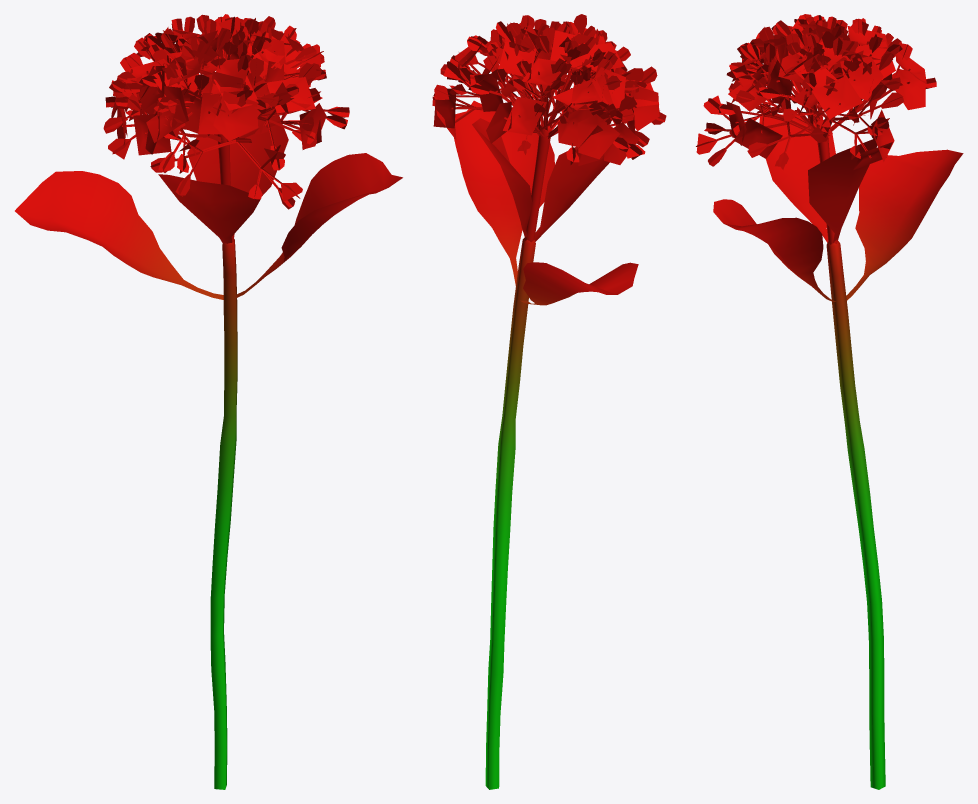
File: Var11_LOD1.fbx
The picture shows the model from 3 angles, left to right: view 1: azimuth 30°, elevation 25°; view 2: azimuth 150°, elevation 25°; view 3: azimuth 270°, elevation 25°; orthographic projection. The views are drawn at different scales.
Parts seen in each view (by area): view 1: _3e89_Var11_LOD1; view 2: _3e89_Var11_LOD1; view 3: _3e89_Var11_LOD1.
Part boxes in pixels (x1,y1,x2,y2): _3e89_Var11_LOD1: (15, 14, 402, 789); _3e89_Var11_LOD1: (432, 14, 666, 789); _3e89_Var11_LOD1: (696, 14, 963, 789).
Size of the model in its own units: 16.09 by 45.09 by 14.6.
